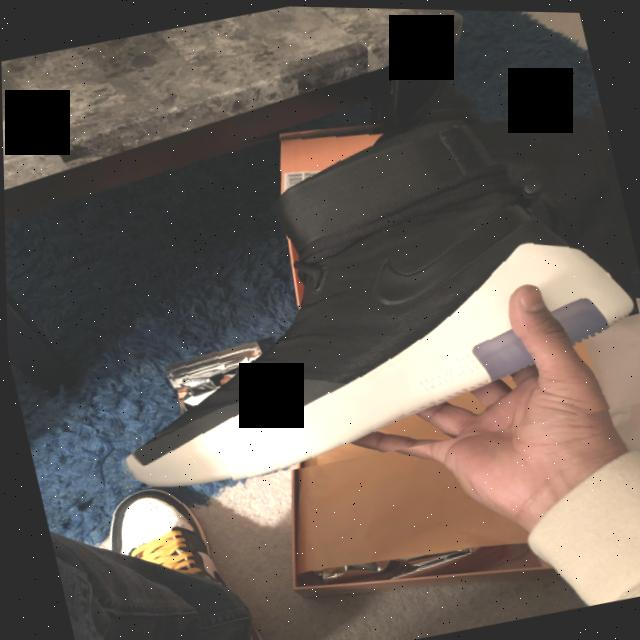shoe: (48, 59, 640, 509), (85, 466, 272, 640)
